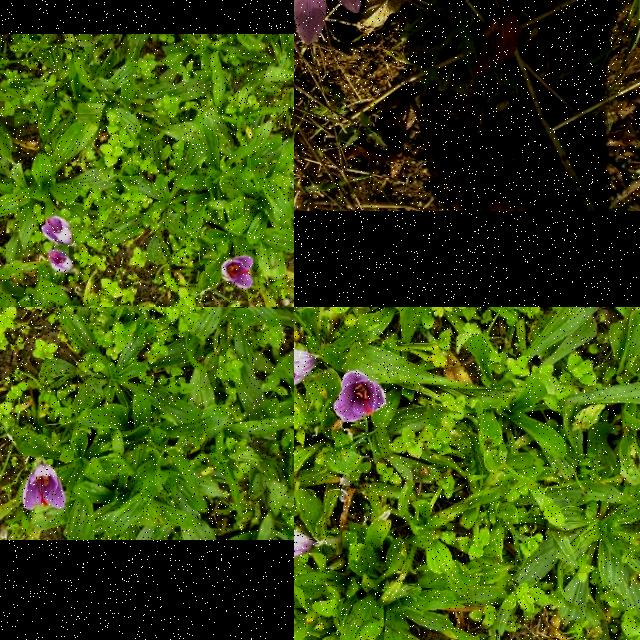flower: (294, 0, 404, 45), (334, 372, 386, 421), (22, 463, 66, 511), (220, 255, 254, 289), (41, 216, 73, 246), (294, 351, 314, 395), (294, 526, 313, 560), (47, 249, 73, 273)
